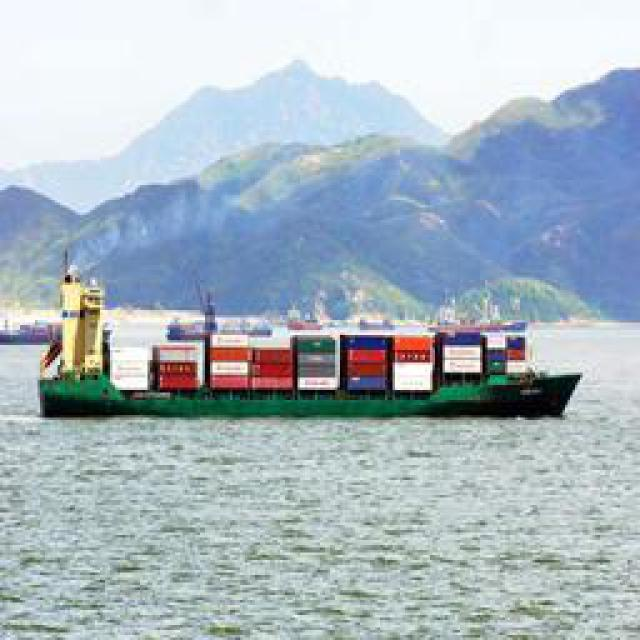Ship: (36, 298, 589, 423)
